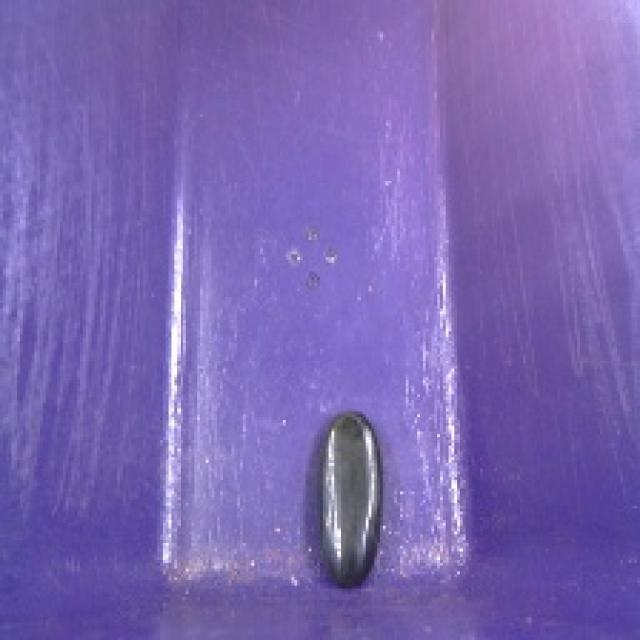cobbles: (308, 399, 389, 600)
